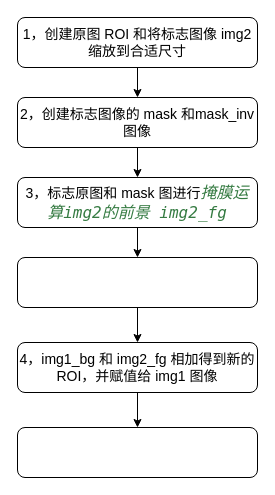
The diagram is 275 pixels wide and 495 high, and some of its shapes have lost their labels. Each missing label, with the centre of its shape:
"3，ROI 图和 mask_inv 图进行 掩膜运算得到roi图的背景 img1_bg" goes at point 137,282.
"5，返回新的 img1 图像" goes at point 137,452.
